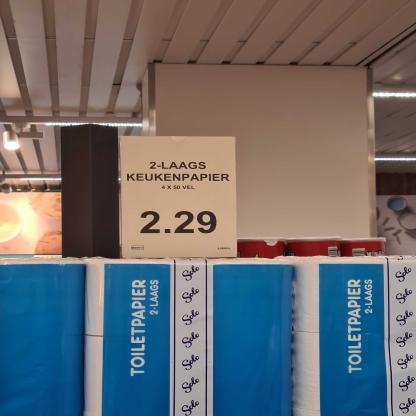prtg: (121, 137, 239, 259)
